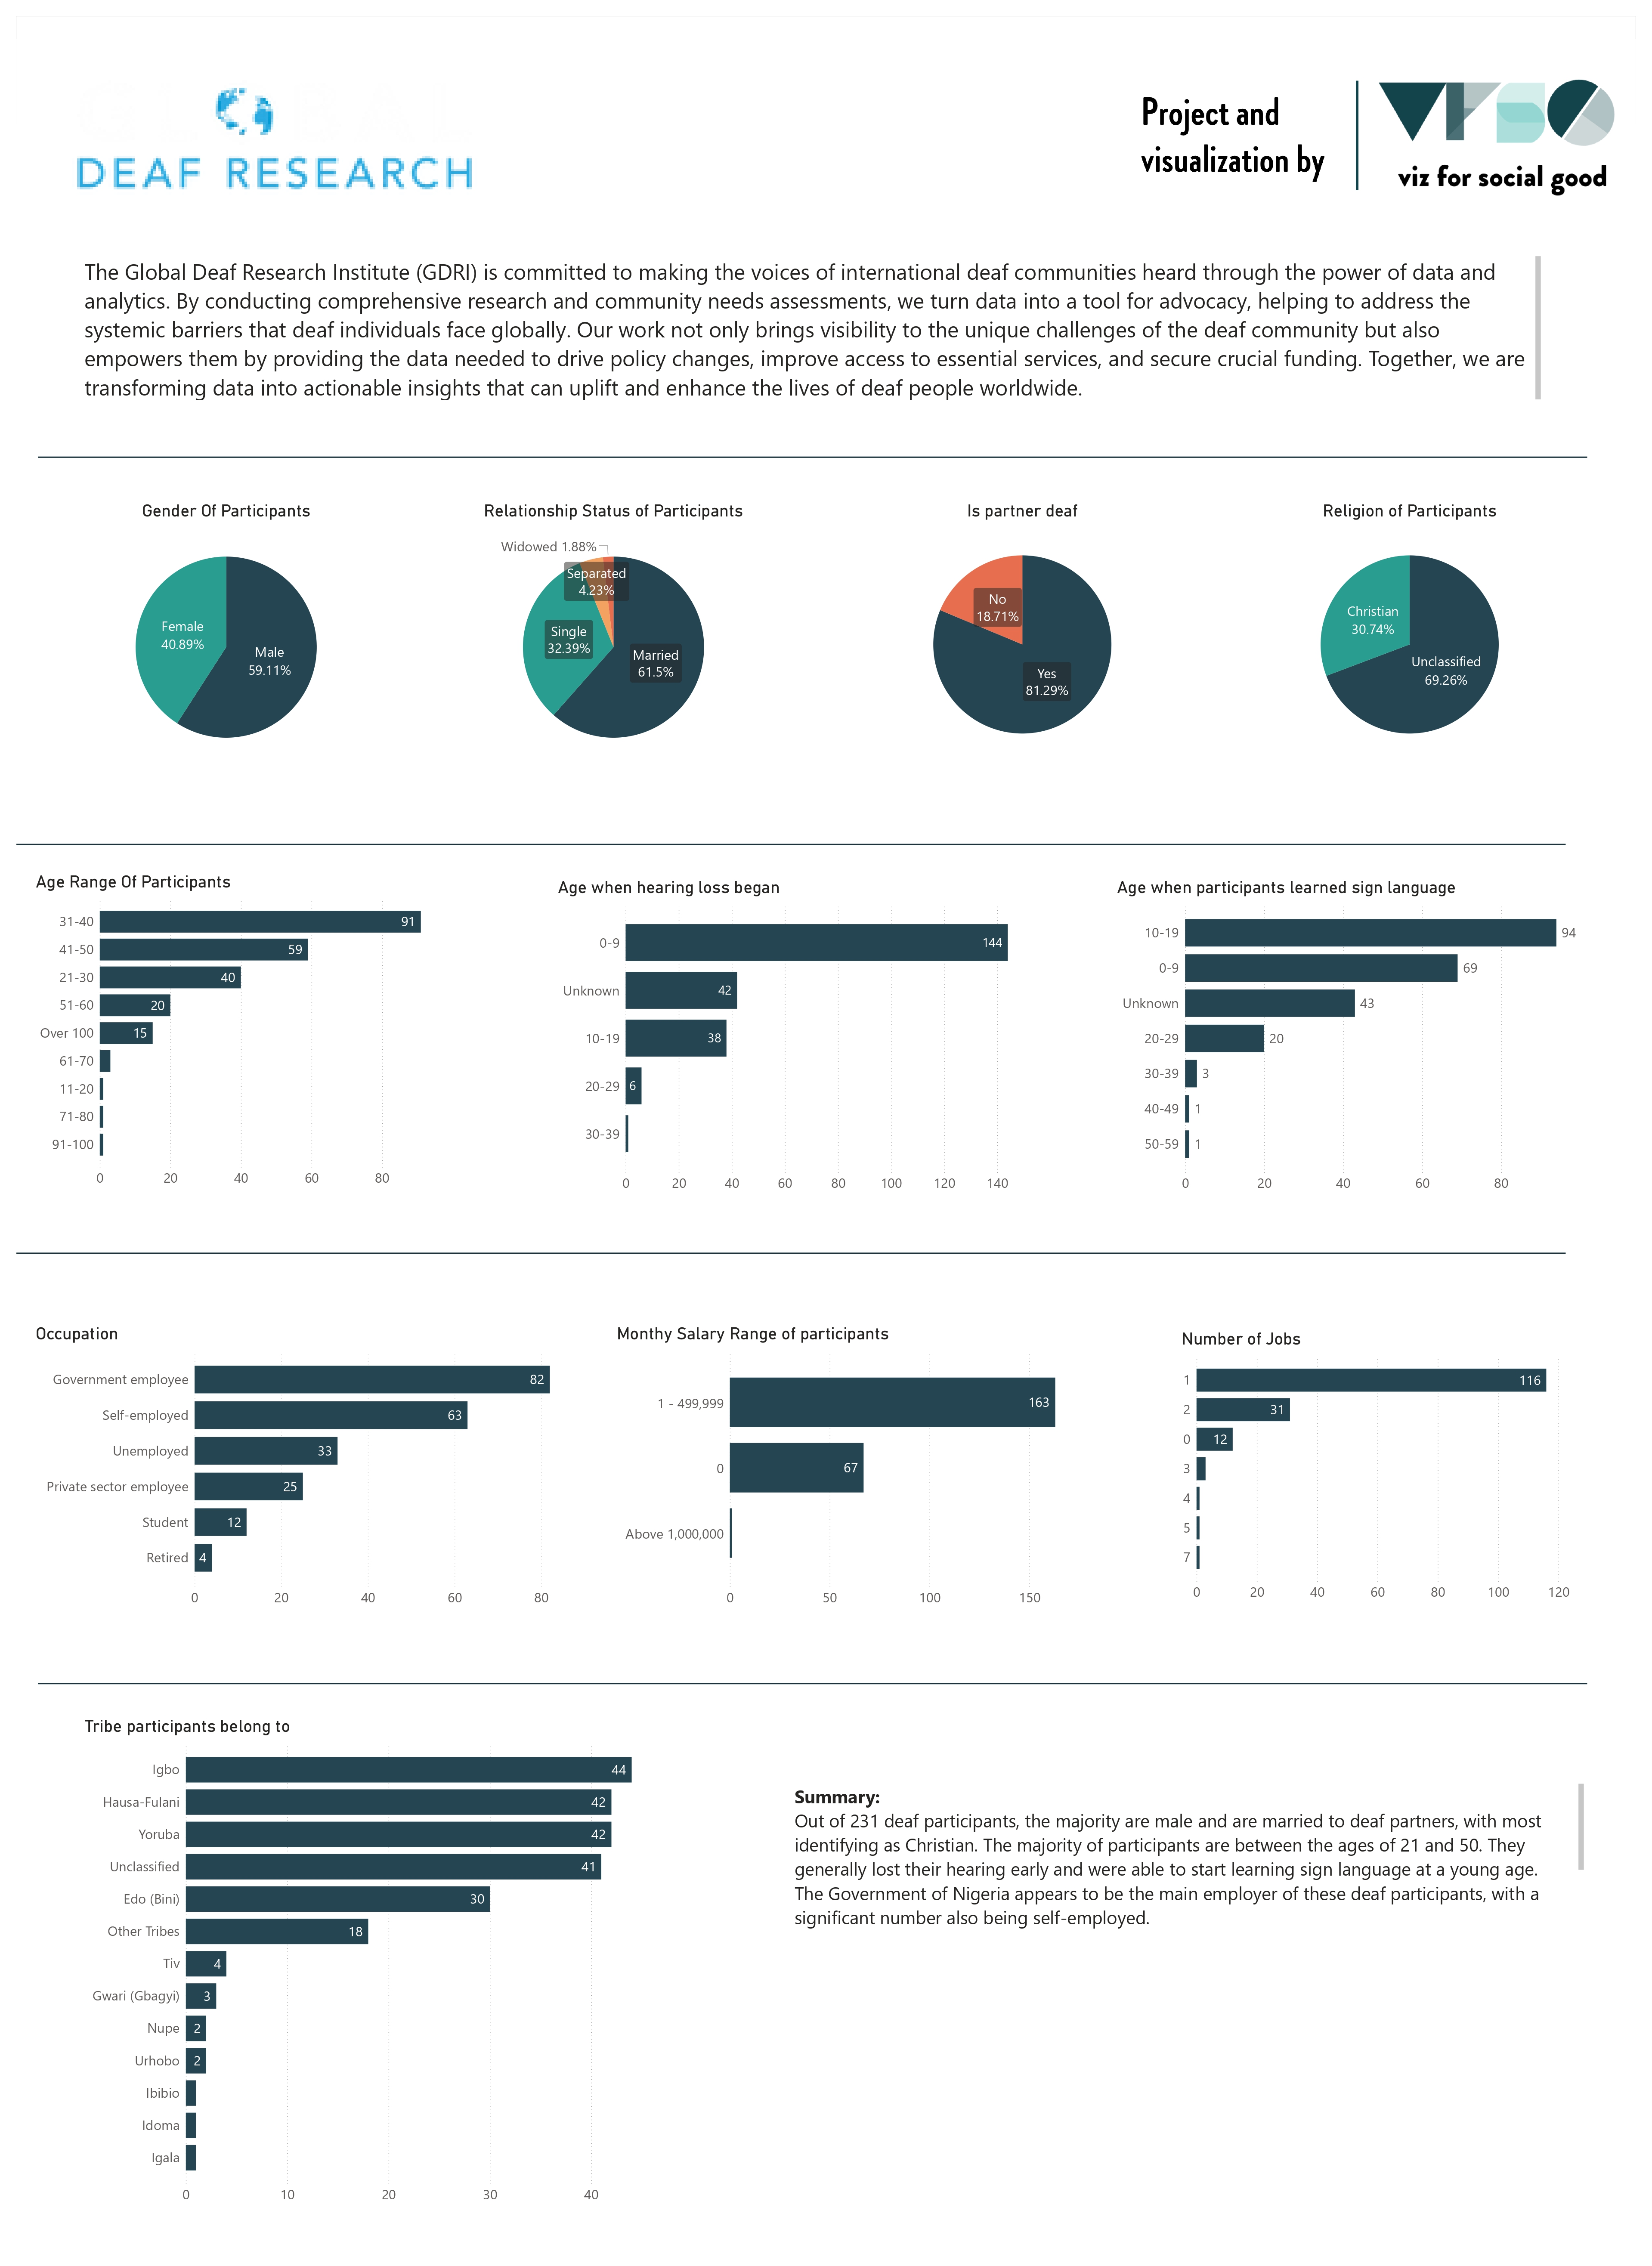

The dashboard page shown, as its layout file describes it:
{"tool":"powerbi","page":{"name":"Personal Information","canvas":[2408,3322],"ordinal":0},"visuals":[{"type":"image","box":[1632,0,768,352],"z":0},{"type":"image","box":[0,0,768,352],"z":1000},{"type":"pieChart","title":"Gender Of Participants","fields":{"Category":["vsfg_gdri int_personal_information.sex"],"Y":["CountNonNull(vsfg_gdri int_personal_information.sex)"]},"box":[48,720,528,408],"z":2000},{"type":"barChart","title":"Age Range Of Participants","fields":{"Category":["vsfg_gdri int_personal_information.age_range"],"Y":["CountNonNull(vsfg_gdri int_personal_information.age_range)"]},"box":[24,1272,624,480],"z":3000},{"type":"pieChart","title":"Religion of Participants","fields":{"Category":["vsfg_gdri int_personal_information.religion"],"Y":["CountNonNull(vsfg_gdri int_personal_information.religion)"]},"box":[1808,720,528,400],"z":4000},{"type":"barChart","title":"Monthy Salary Range of participants","fields":{"Category":["vsfg_gdri int_personal_information.monthly_salary"],"Y":["CountNonNull(vsfg_gdri int_personal_information.monthly_salary)"]},"box":[888,1944,720,432],"z":5000},{"type":"pieChart","title":"Relationship Status of Participants","fields":{"Category":["vsfg_gdri int_personal_information.relationship_status"],"Y":["CountNonNull(vsfg_gdri int_personal_information.relationship_status)"]},"box":[624,720,528,408],"z":6000},{"type":"shape","box":[32,544,2304,224],"z":7000},{"type":"barChart","title":"Occupation","fields":{"Category":["vsfg_gdri int_personal_information.current_occupation_status"],"Y":["CountNonNull(vsfg_gdri int_personal_information.current_occupation_status)"]},"box":[24,1944,816,432],"z":8000},{"type":"barChart","title":"Age when hearing loss began","fields":{"Category":["vsfg_gdri int_personal_information.age_began_hearing_loss_range"],"Y":["CountNonNull(vsfg_gdri int_personal_information.age_began_hearing_loss_range)"]},"box":[800,1280,736,480],"z":9000},{"type":"barChart","title":"Age when participants learned sign language","fields":{"Category":["vsfg_gdri int_personal_information.age_learned_sign_language_range"],"Y":["CountNonNull(vsfg_gdri int_personal_information.age_learned_sign_language_range)"]},"box":[1632,1280,704,480],"z":10000},{"type":"barChart","title":"Number of Jobs","fields":{"Y":["CountNonNull(vsfg_gdri int_personal_information.number_of_jobs)"],"Category":["vsfg_gdri int_personal_information.number_of_jobs"]},"box":[1728,1952,608,416],"z":11000},{"type":"textbox","box":[96,352,2176,224],"z":12000},{"type":"pieChart","title":"Is partner deaf","fields":{"Category":["vsfg_gdri int_personal_information.is_partner_deaf"],"Y":["CountNonNull(vsfg_gdri int_personal_information.is_partner_deaf)"]},"box":[1232,720,528,400],"z":13000},{"type":"barChart","title":"Tribe participants belong to","fields":{"Category":["vsfg_gdri int_personal_information.classified_tribe"],"Y":["CountNonNull(vsfg_gdri int_personal_information.classified_tribe)"]},"box":[96,2528,864,736],"z":14000},{"type":"textbox","box":[1152,2624,1184,256],"z":15000},{"type":"shape","box":[0,1120,2304,224],"z":15001},{"type":"shape","box":[0,1728,2304,224],"z":15002},{"type":"shape","box":[32,2368,2304,224],"z":15003}]}

Visuals, with their boxes in screenshot pixels (x1, y1, x2, y2):
image: (1114, 16, 1630, 253)
image: (16, 16, 533, 253)
"Gender Of Participants" pieChart: (49, 500, 404, 775)
"Age Range Of Participants" barChart: (32, 872, 452, 1194)
"Religion of Participants" pieChart: (1232, 500, 1587, 769)
"Monthy Salary Range of participants" barChart: (613, 1323, 1098, 1614)
"Relationship Status of Participants" pieChart: (436, 500, 791, 775)
shape: (38, 382, 1587, 532)
"Occupation" barChart: (32, 1323, 581, 1614)
"Age when hearing loss began" barChart: (554, 877, 1049, 1199)
"Age when participants learned sign language" barChart: (1114, 877, 1587, 1199)
"Number of Jobs" barChart: (1179, 1329, 1587, 1608)
textbox: (81, 253, 1544, 403)
"Is partner deaf" pieChart: (845, 500, 1200, 769)
"Tribe participants belong to" barChart: (81, 1716, 662, 2211)
textbox: (791, 1781, 1587, 1953)
shape: (16, 769, 1566, 920)
shape: (16, 1178, 1566, 1329)
shape: (38, 1608, 1587, 1759)
